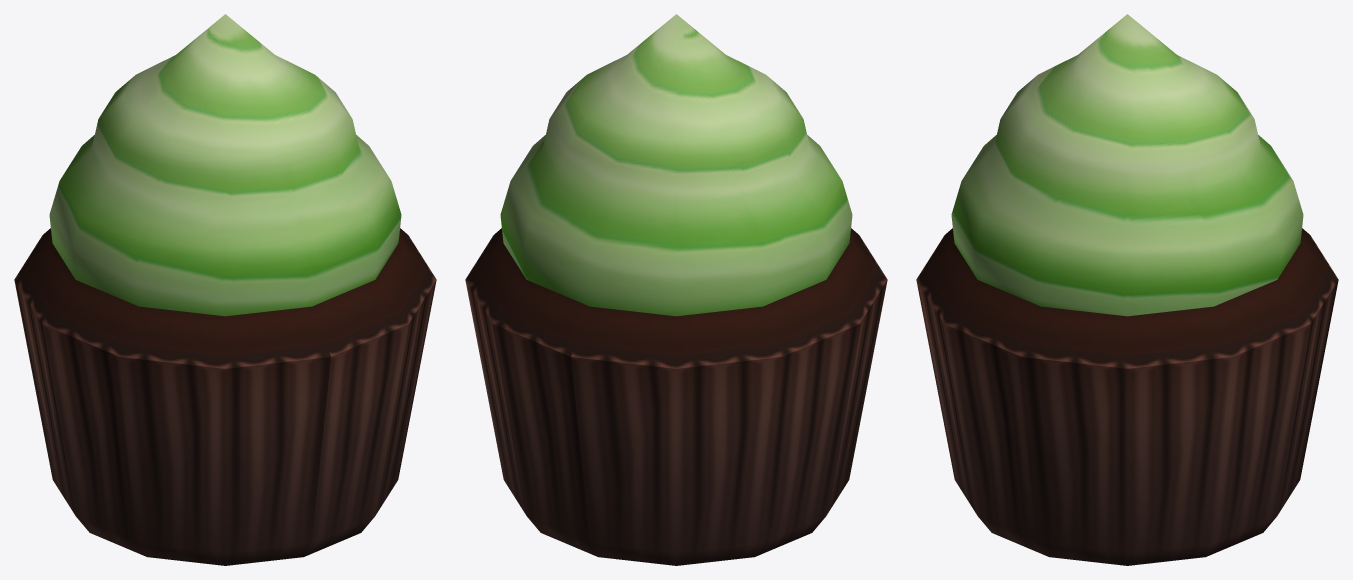
The model's file is 009-Cupcakes_012.FBX.
3 renders of one model, left to right at view 1: azimuth 30°, elevation 25°; view 2: azimuth 150°, elevation 25°; view 3: azimuth 270°, elevation 25°, orthographic.
Parts seen in each view (by area): view 1: 009-Cupcakes_012; view 2: 009-Cupcakes_012; view 3: 009-Cupcakes_012.
Boxes of the visible parts, x1,y1,x2,y2 form: 009-Cupcakes_012: (14, 14, 436, 565); 009-Cupcakes_012: (465, 14, 887, 565); 009-Cupcakes_012: (916, 14, 1338, 565).
Bounding box in the file's own units: 12.34 × 15.65 × 12.34.
